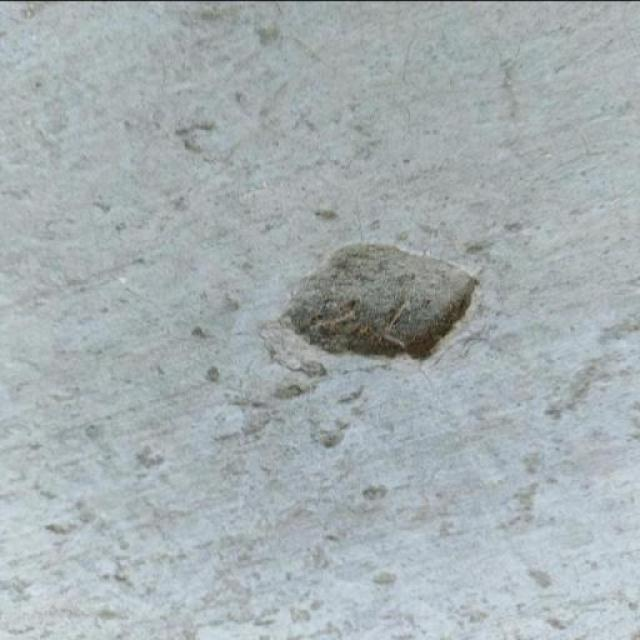D10: (288, 240, 480, 360)
